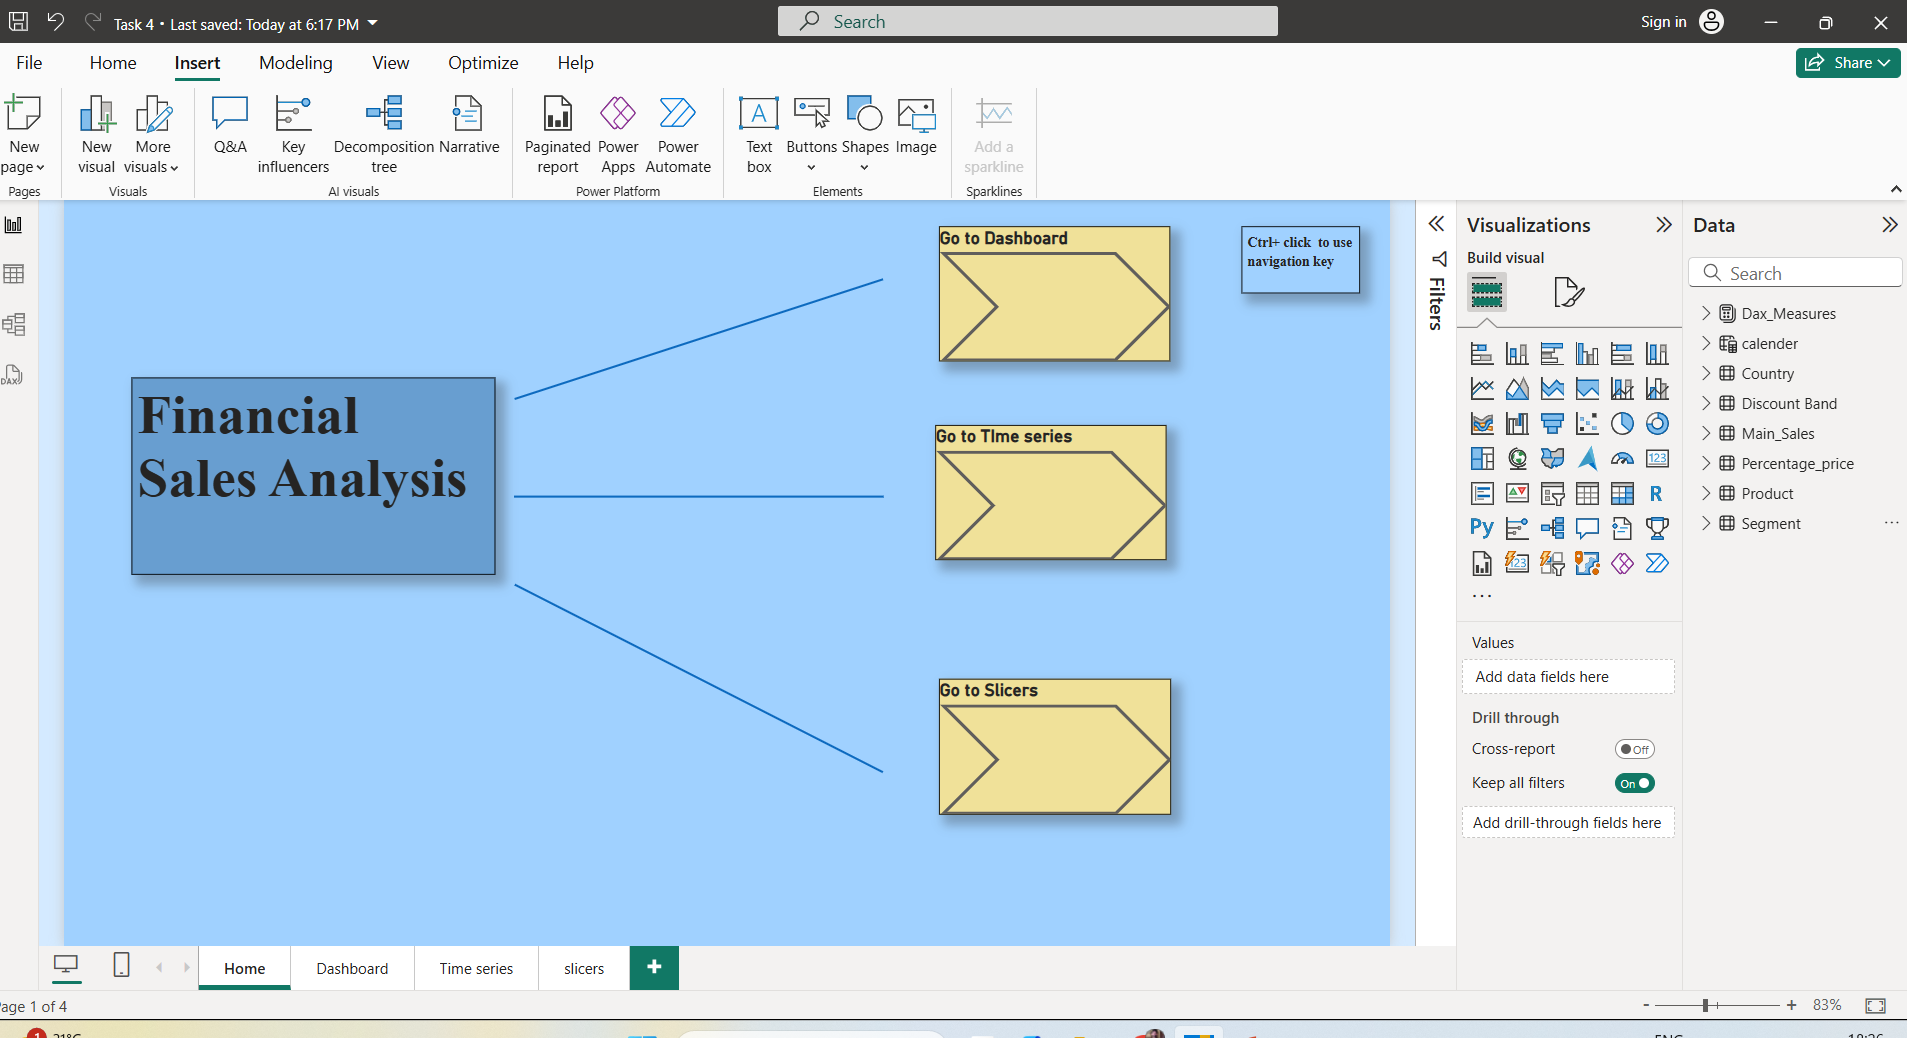

Layout of this report page (visuals, bound fields, positions):
{"tool":"powerbi","page":{"name":"Home","canvas":[1280,720],"ordinal":0},"visuals":[{"type":"textbox","box":[65.1,171.3,351.1,190.6],"z":1},{"type":"actionButton","title":"Go to Dashboard","box":[845,25.7,223,130],"z":2},{"type":"actionButton","title":"Go to TIme series","box":[841.3,217.7,223,130],"z":3},{"type":"actionButton","title":"Go to Slicers","box":[845,462.2,223.8,130.8],"z":4},{"type":"shape","box":[434.1,56.3,357.1,155.3],"z":5},{"type":"shape","box":[434.1,211.6,357.1,150.4],"z":6},{"type":"shape","box":[434.1,344.8,357.1,233.6],"z":7},{"type":"textbox","box":[1136.5,25.3,114.6,65.1],"z":8}]}

Visuals, with their boxes on the page's 1280x720 design canvas (x1, y1, x2, y2). These are canvas units, not pixel positions in the 1907x1038 screenshot, which may show the page scaled, cropped or inside an application window:
textbox: [65, 171, 416, 362]
"Go to Dashboard" actionButton: [845, 26, 1068, 156]
"Go to TIme series" actionButton: [841, 218, 1064, 348]
"Go to Slicers" actionButton: [845, 462, 1069, 593]
shape: [434, 56, 791, 212]
shape: [434, 212, 791, 362]
shape: [434, 345, 791, 578]
textbox: [1136, 25, 1251, 90]
